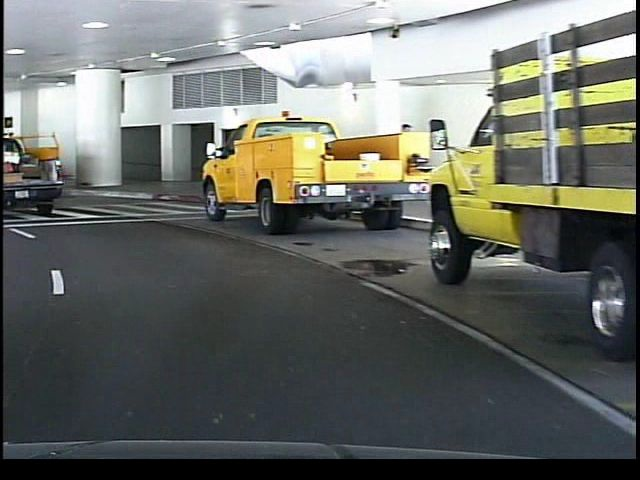person: (391, 118, 420, 208)
